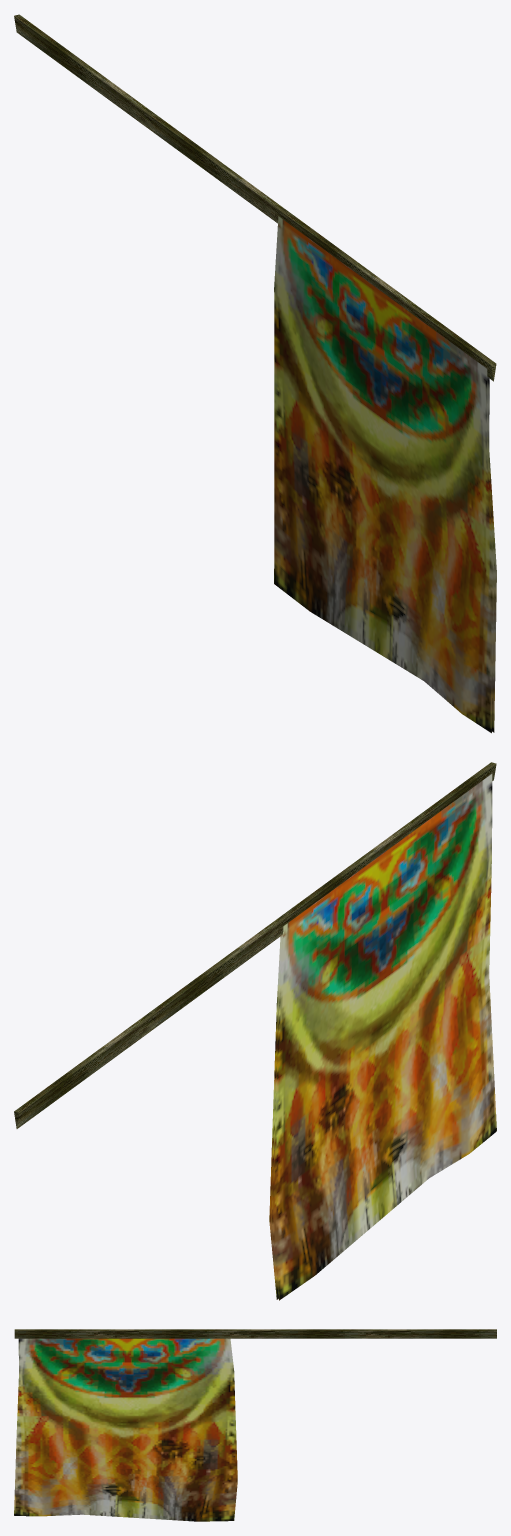
3 renders of one model, top to bottom at view 1: azimuth 30°, elevation 25°; view 2: azimuth 150°, elevation 25°; view 3: azimuth 270°, elevation 25°, orthographic. The views are drawn at different scales.
Parts seen in each view (by area): view 1: tn5_fl6; view 2: tn5_fl6; view 3: tn5_fl6.
Part boxes in pixels (x1=…): tn5_fl6: x1=14, y1=14, x2=496, y2=733; tn5_fl6: x1=14, y1=762, x2=496, y2=1300; tn5_fl6: x1=14, y1=1329, x2=496, y2=1521.
Size of the model in its own units: 0.0394 by 1.42 by 3.23.
Materials: 2 (2 with a texture image).
